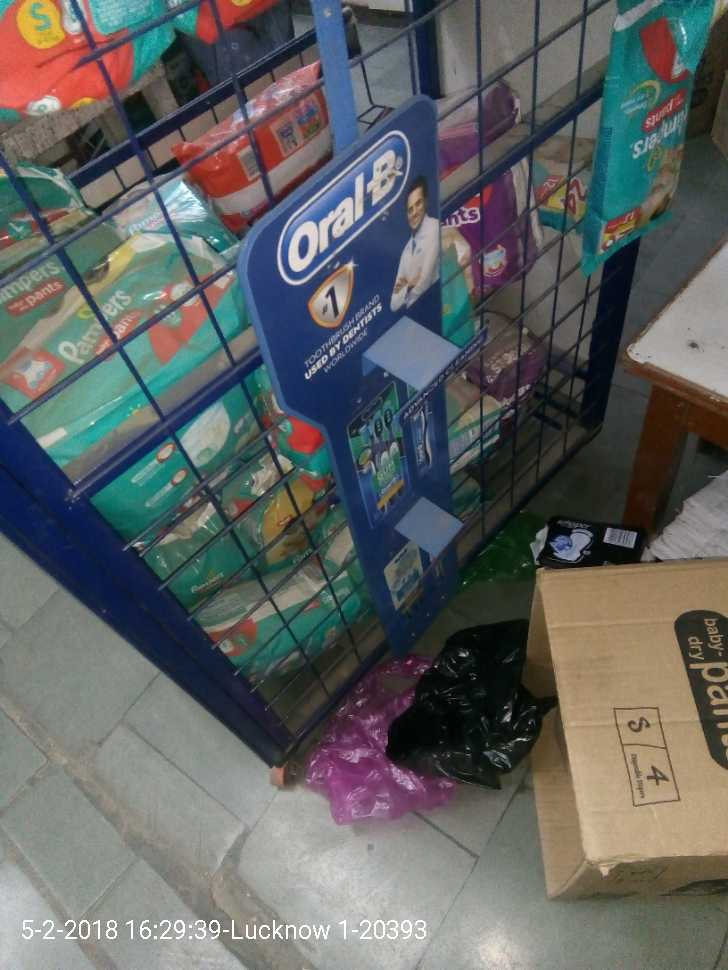pharmacy: (598, 91, 683, 248)
